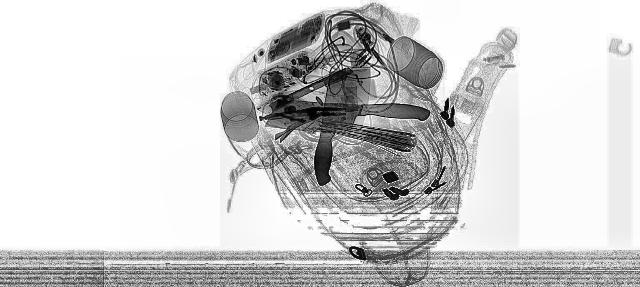Knife: (262, 94, 432, 140), (312, 68, 372, 184)
